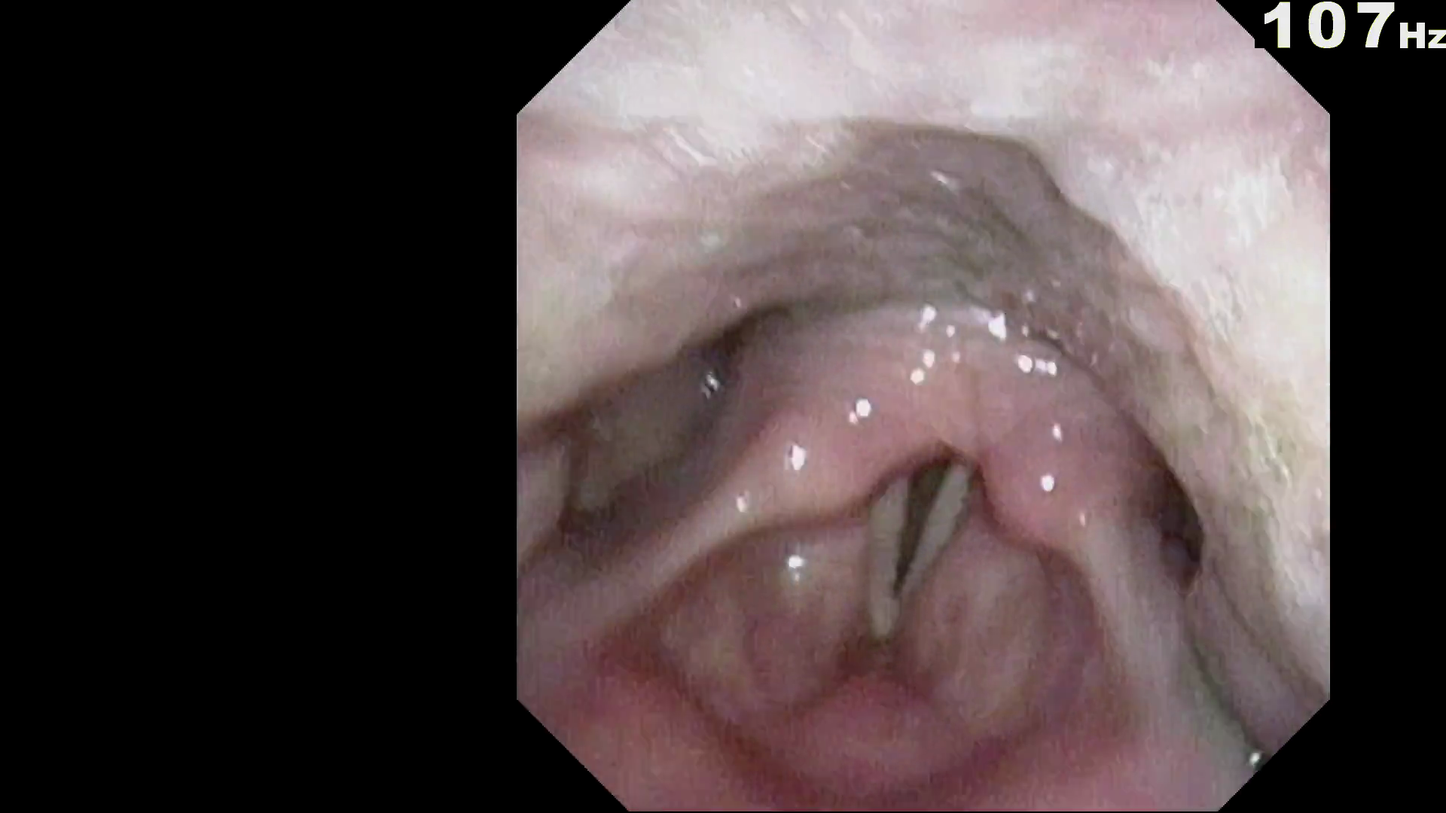trachea: (840, 418, 1000, 637)
